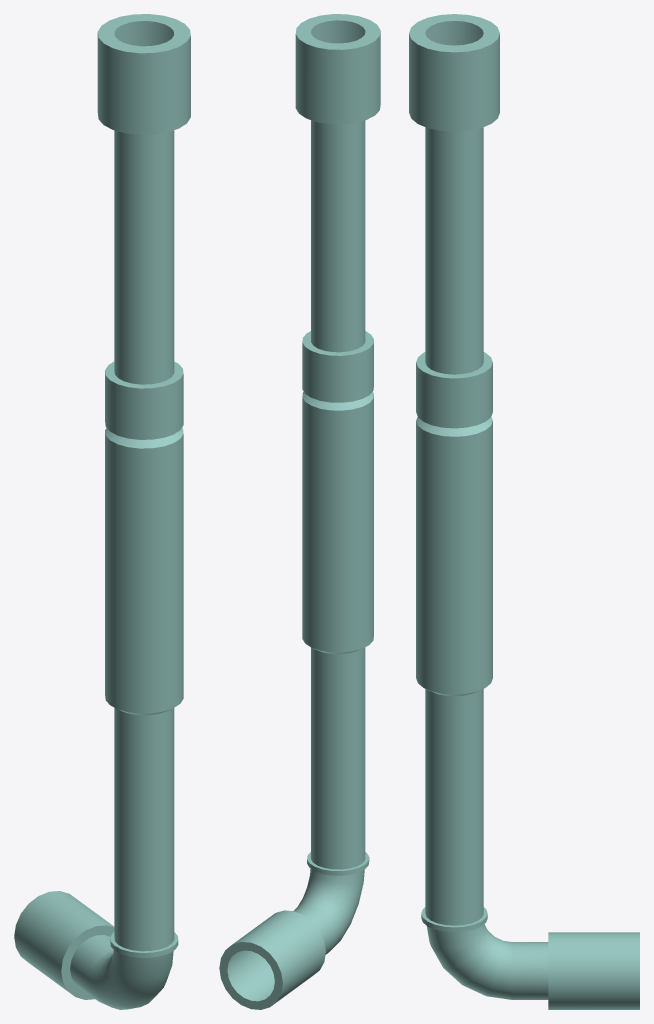
The model's file is Pipe_Vertical_Small_5.fbx.
3 renders of one model, left to right at view 1: azimuth 30°, elevation 25°; view 2: azimuth 150°, elevation 25°; view 3: azimuth 270°, elevation 25°, orthographic. The views are drawn at different scales.
Visible parts, largest first — view 1: Pipe_Vertical_Small_5; view 2: Pipe_Vertical_Small_5; view 3: Pipe_Vertical_Small_5.
Part boxes in pixels (x1,y1,x2,y2): Pipe_Vertical_Small_5: (14, 14, 190, 1009); Pipe_Vertical_Small_5: (219, 14, 380, 1009); Pipe_Vertical_Small_5: (409, 14, 639, 1009).
Bounding box in the file's own units: 20.03 × 236 × 50.83.
